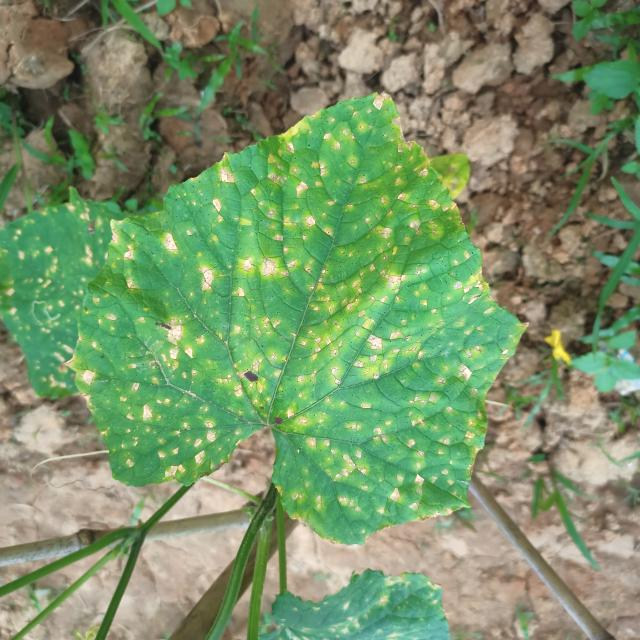disease_cucumber: (105, 106, 487, 515), (0, 203, 108, 388)
